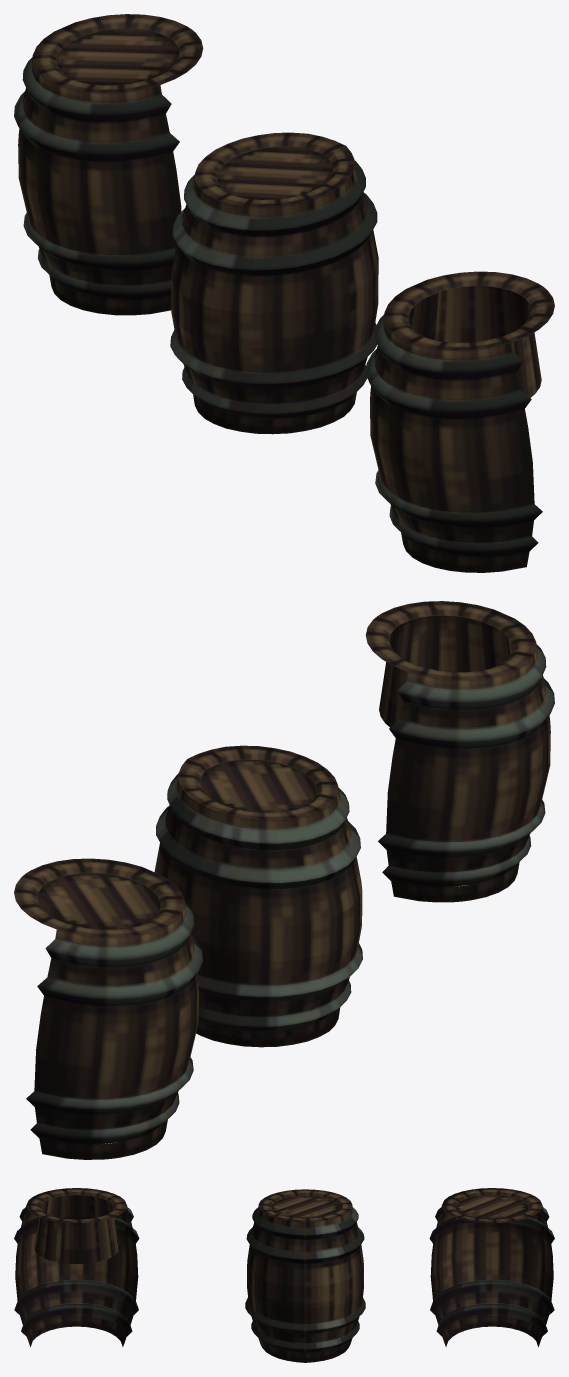
File: EnvObjMD_Barrel_A.FBX
The picture shows the model from 3 angles, top to bottom: view 1: azimuth 30°, elevation 25°; view 2: azimuth 150°, elevation 25°; view 3: azimuth 270°, elevation 25°; orthographic projection. The views are drawn at different scales.
Parts seen in each view (by area): view 1: EnvObjMD_Barrel_A_Back, EnvObjMD_Barrel_A_Open, EnvObjMD_Barrel_A; view 2: EnvObjMD_Barrel_A_Back, EnvObjMD_Barrel_A_Open, EnvObjMD_Barrel_A; view 3: EnvObjMD_Barrel_A_Back, EnvObjMD_Barrel_A, EnvObjMD_Barrel_A_Open.
Part boxes in pixels (box(x1,y1,x2,y2)): EnvObjMD_Barrel_A_Back: box(170, 132, 378, 434); EnvObjMD_Barrel_A_Open: box(365, 271, 554, 572); EnvObjMD_Barrel_A: box(14, 14, 203, 315); EnvObjMD_Barrel_A_Back: box(154, 745, 362, 1047); EnvObjMD_Barrel_A_Open: box(365, 601, 554, 902); EnvObjMD_Barrel_A: box(14, 858, 203, 1159); EnvObjMD_Barrel_A_Back: box(245, 1189, 365, 1362); EnvObjMD_Barrel_A: box(429, 1188, 554, 1347); EnvObjMD_Barrel_A_Open: box(14, 1188, 139, 1347).
Bounding box in the file's own units: 109 × 134 × 465.
Materials: 1 (1 with a texture image).
